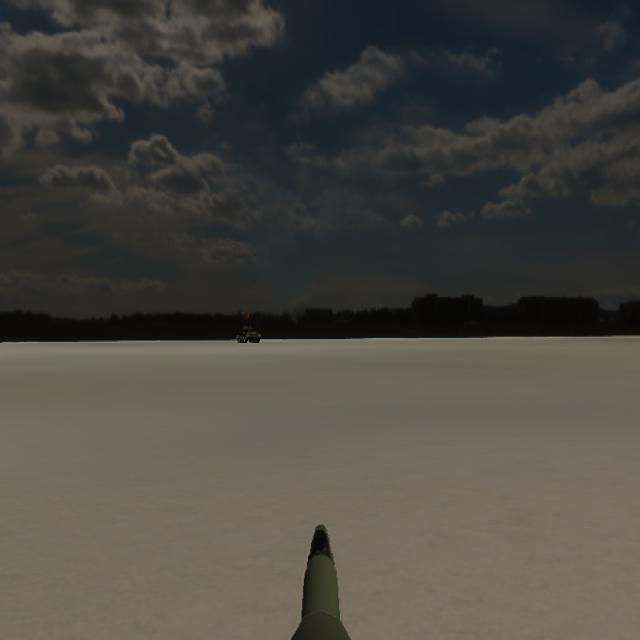enemy: (234, 322, 262, 344)
